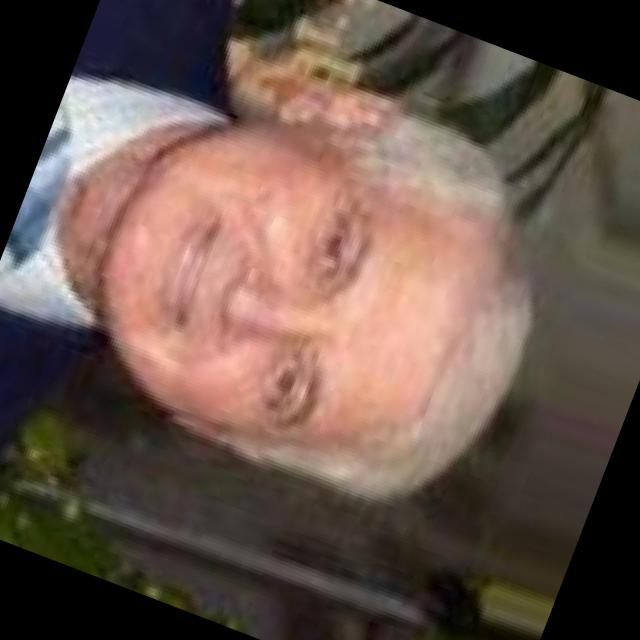bareface: (50, 56, 555, 542)
